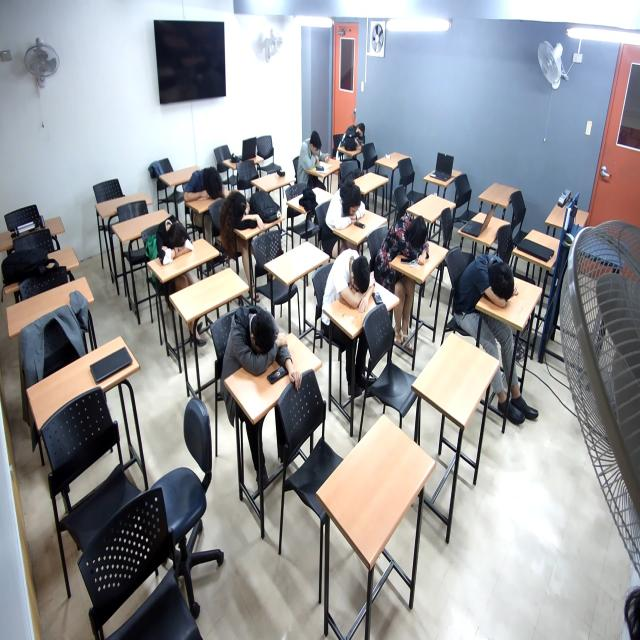sleep: (226, 304, 289, 375), (461, 252, 520, 313), (326, 247, 377, 315), (380, 211, 434, 270), (155, 210, 195, 268), (215, 190, 265, 235), (332, 185, 365, 237), (185, 164, 226, 204), (339, 122, 371, 154)
